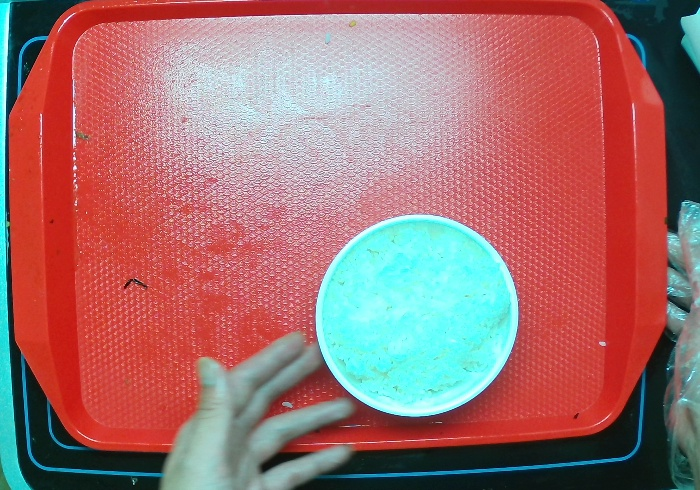YKMZ-Fan_Wan: (308, 203, 525, 424)
